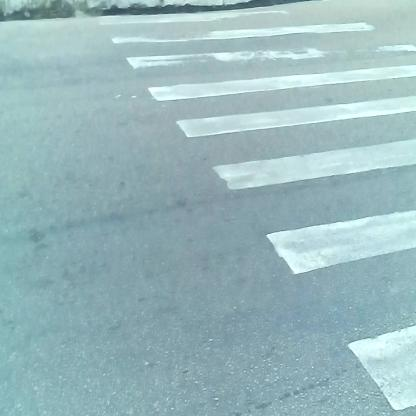crosswalk: (95, 15, 416, 405)
